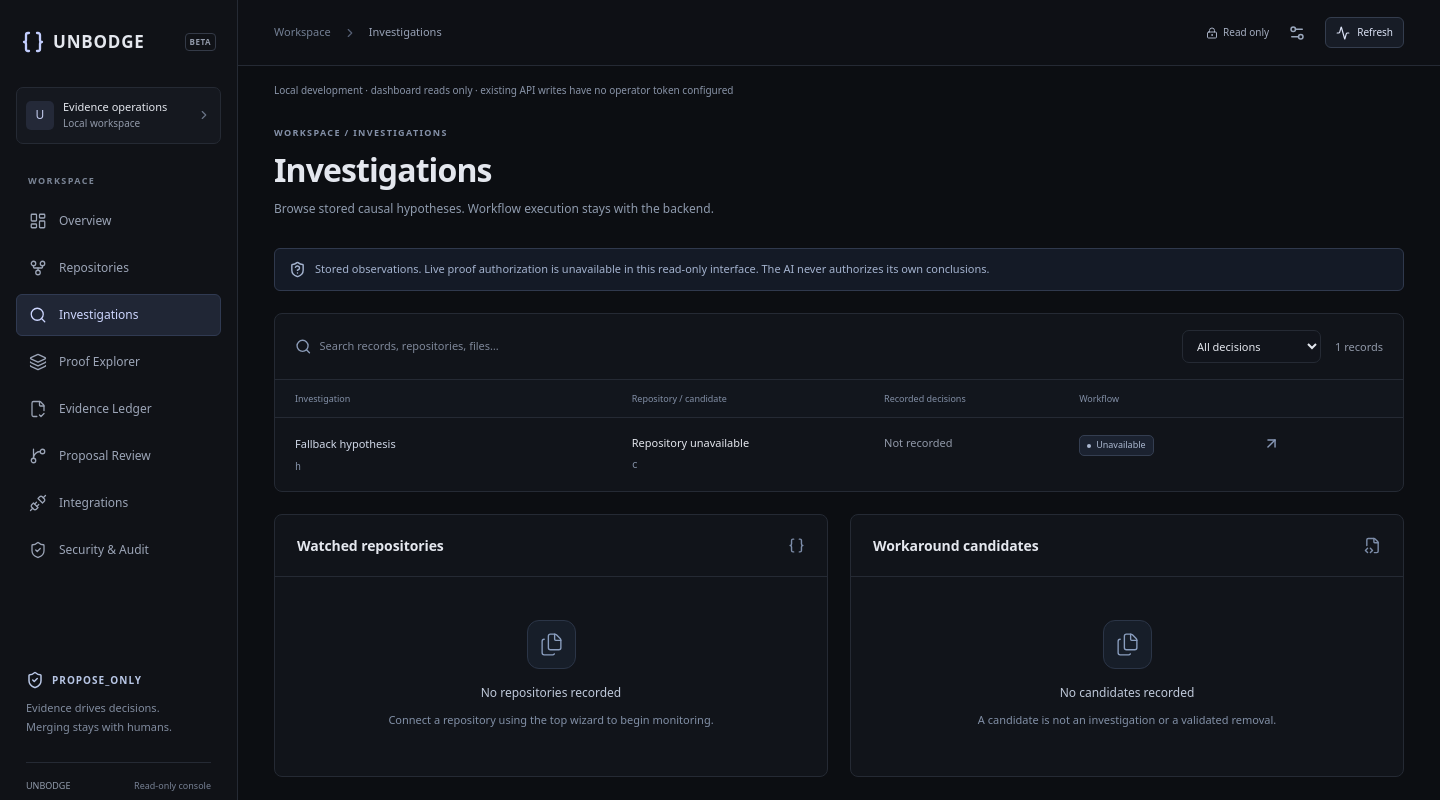
Scenario: search and decision filters do not fabricate records
Expected: the link "Fallback hypothesis" is shown, [295,436,396,452]
Type "unknown" into the field named "Search investigations" at (744, 346), box [320,332,1168,361]
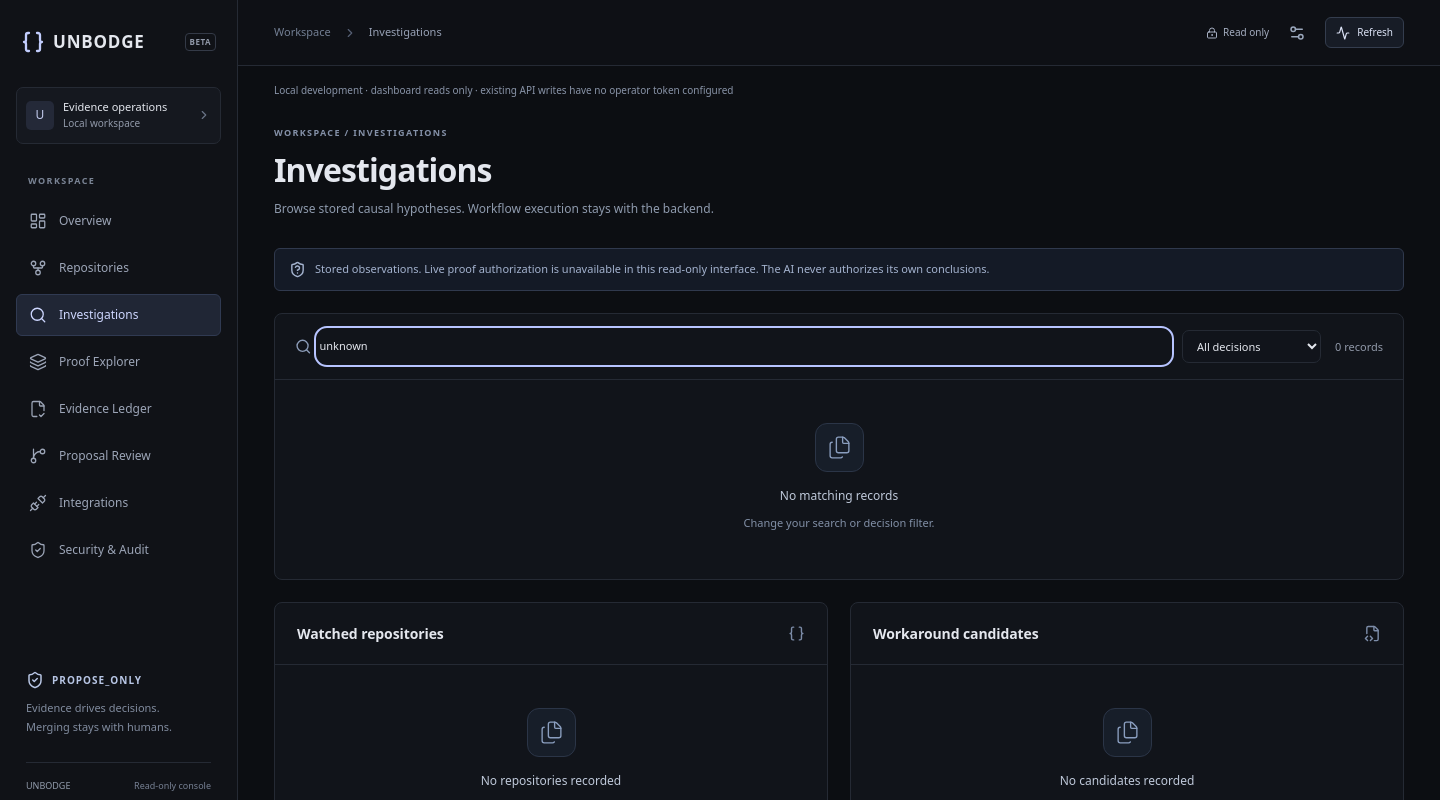
Expected: the heading "No matching records" is shown, [780,487,898,504]
Clear the field named "Search investigations" at (744, 346), box [320,332,1168,361]
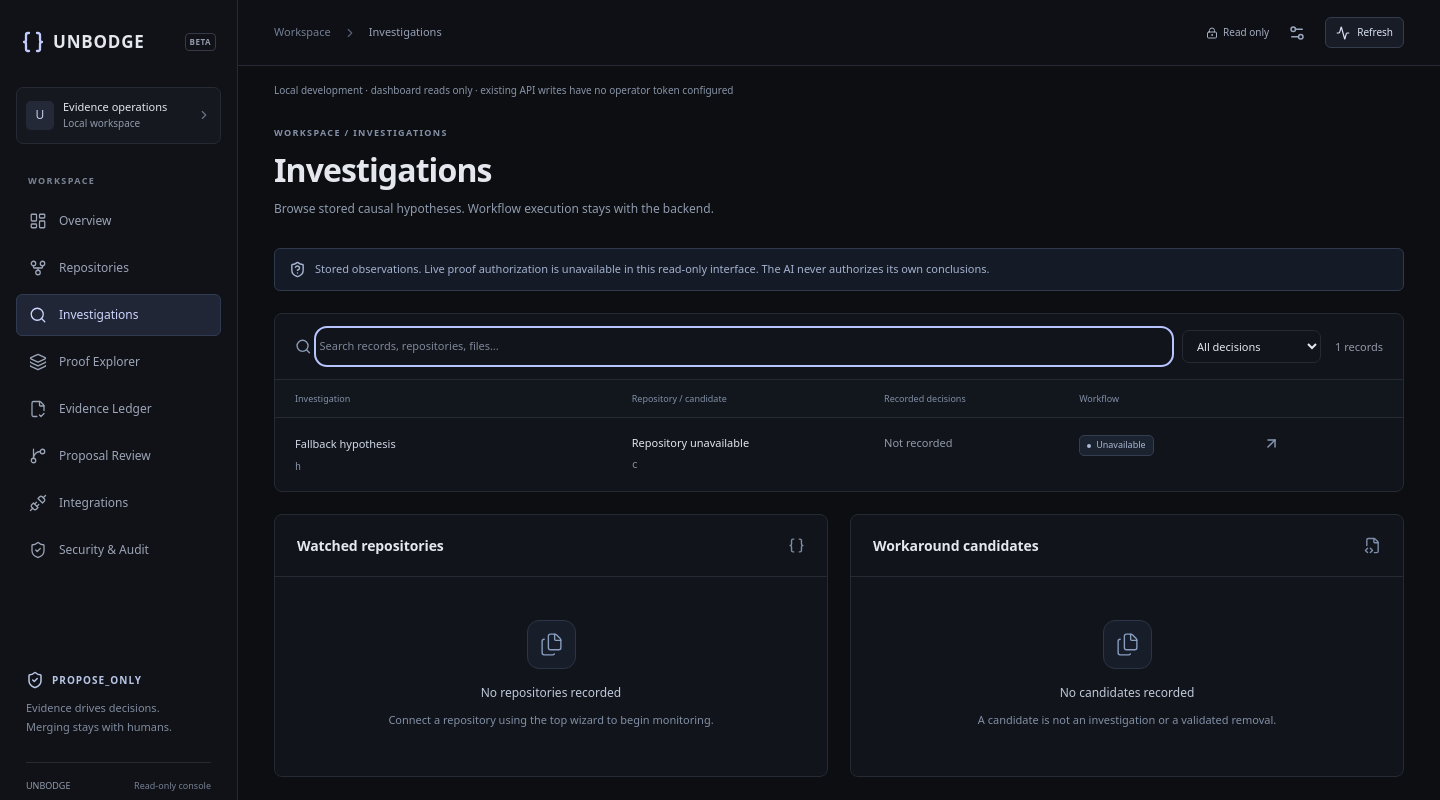
Select "Removal proposed" in the dropdown named "Filter decisions" at (1252, 346), box [1182,330,1321,363]
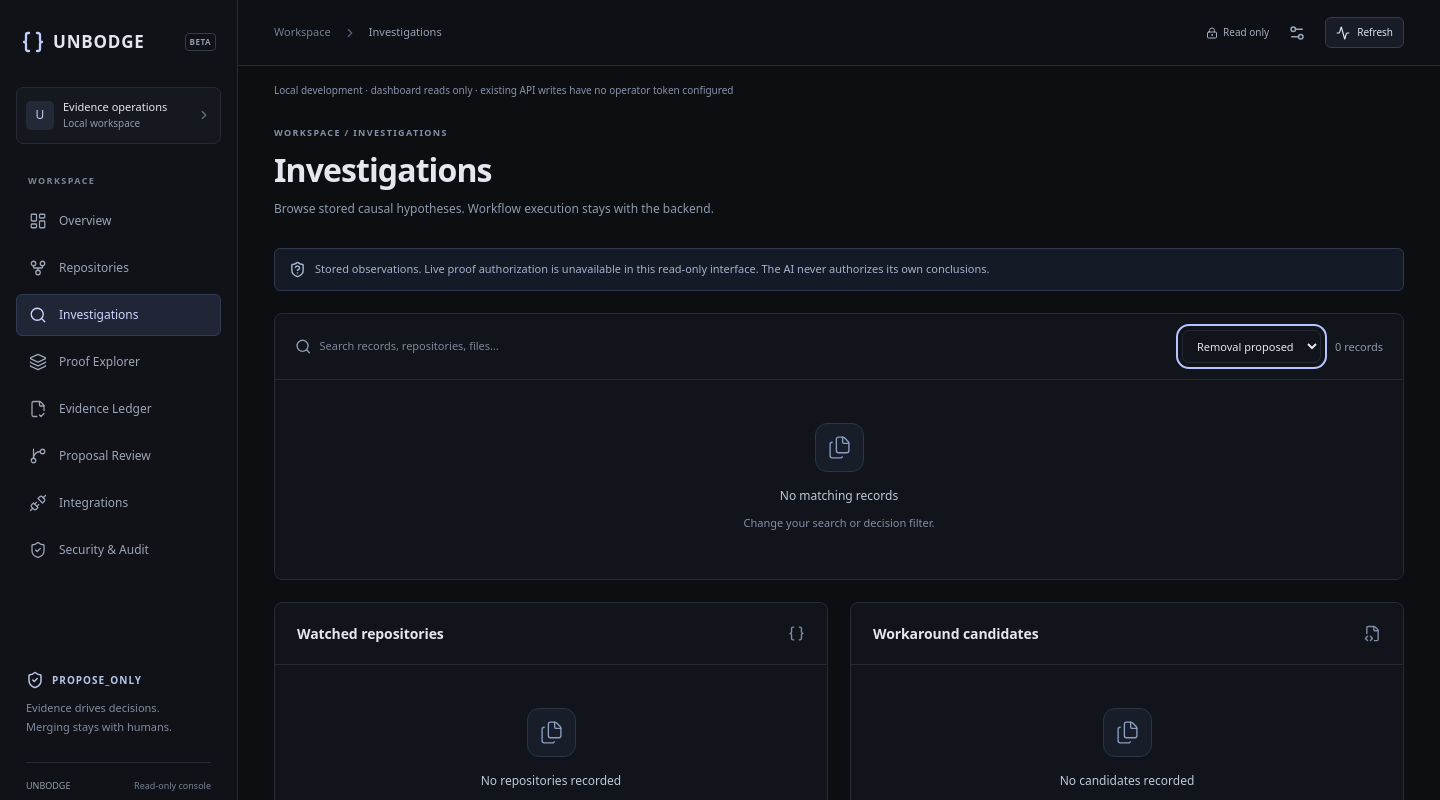
Expected: the heading "No matching records" is shown, [780,487,898,504]
